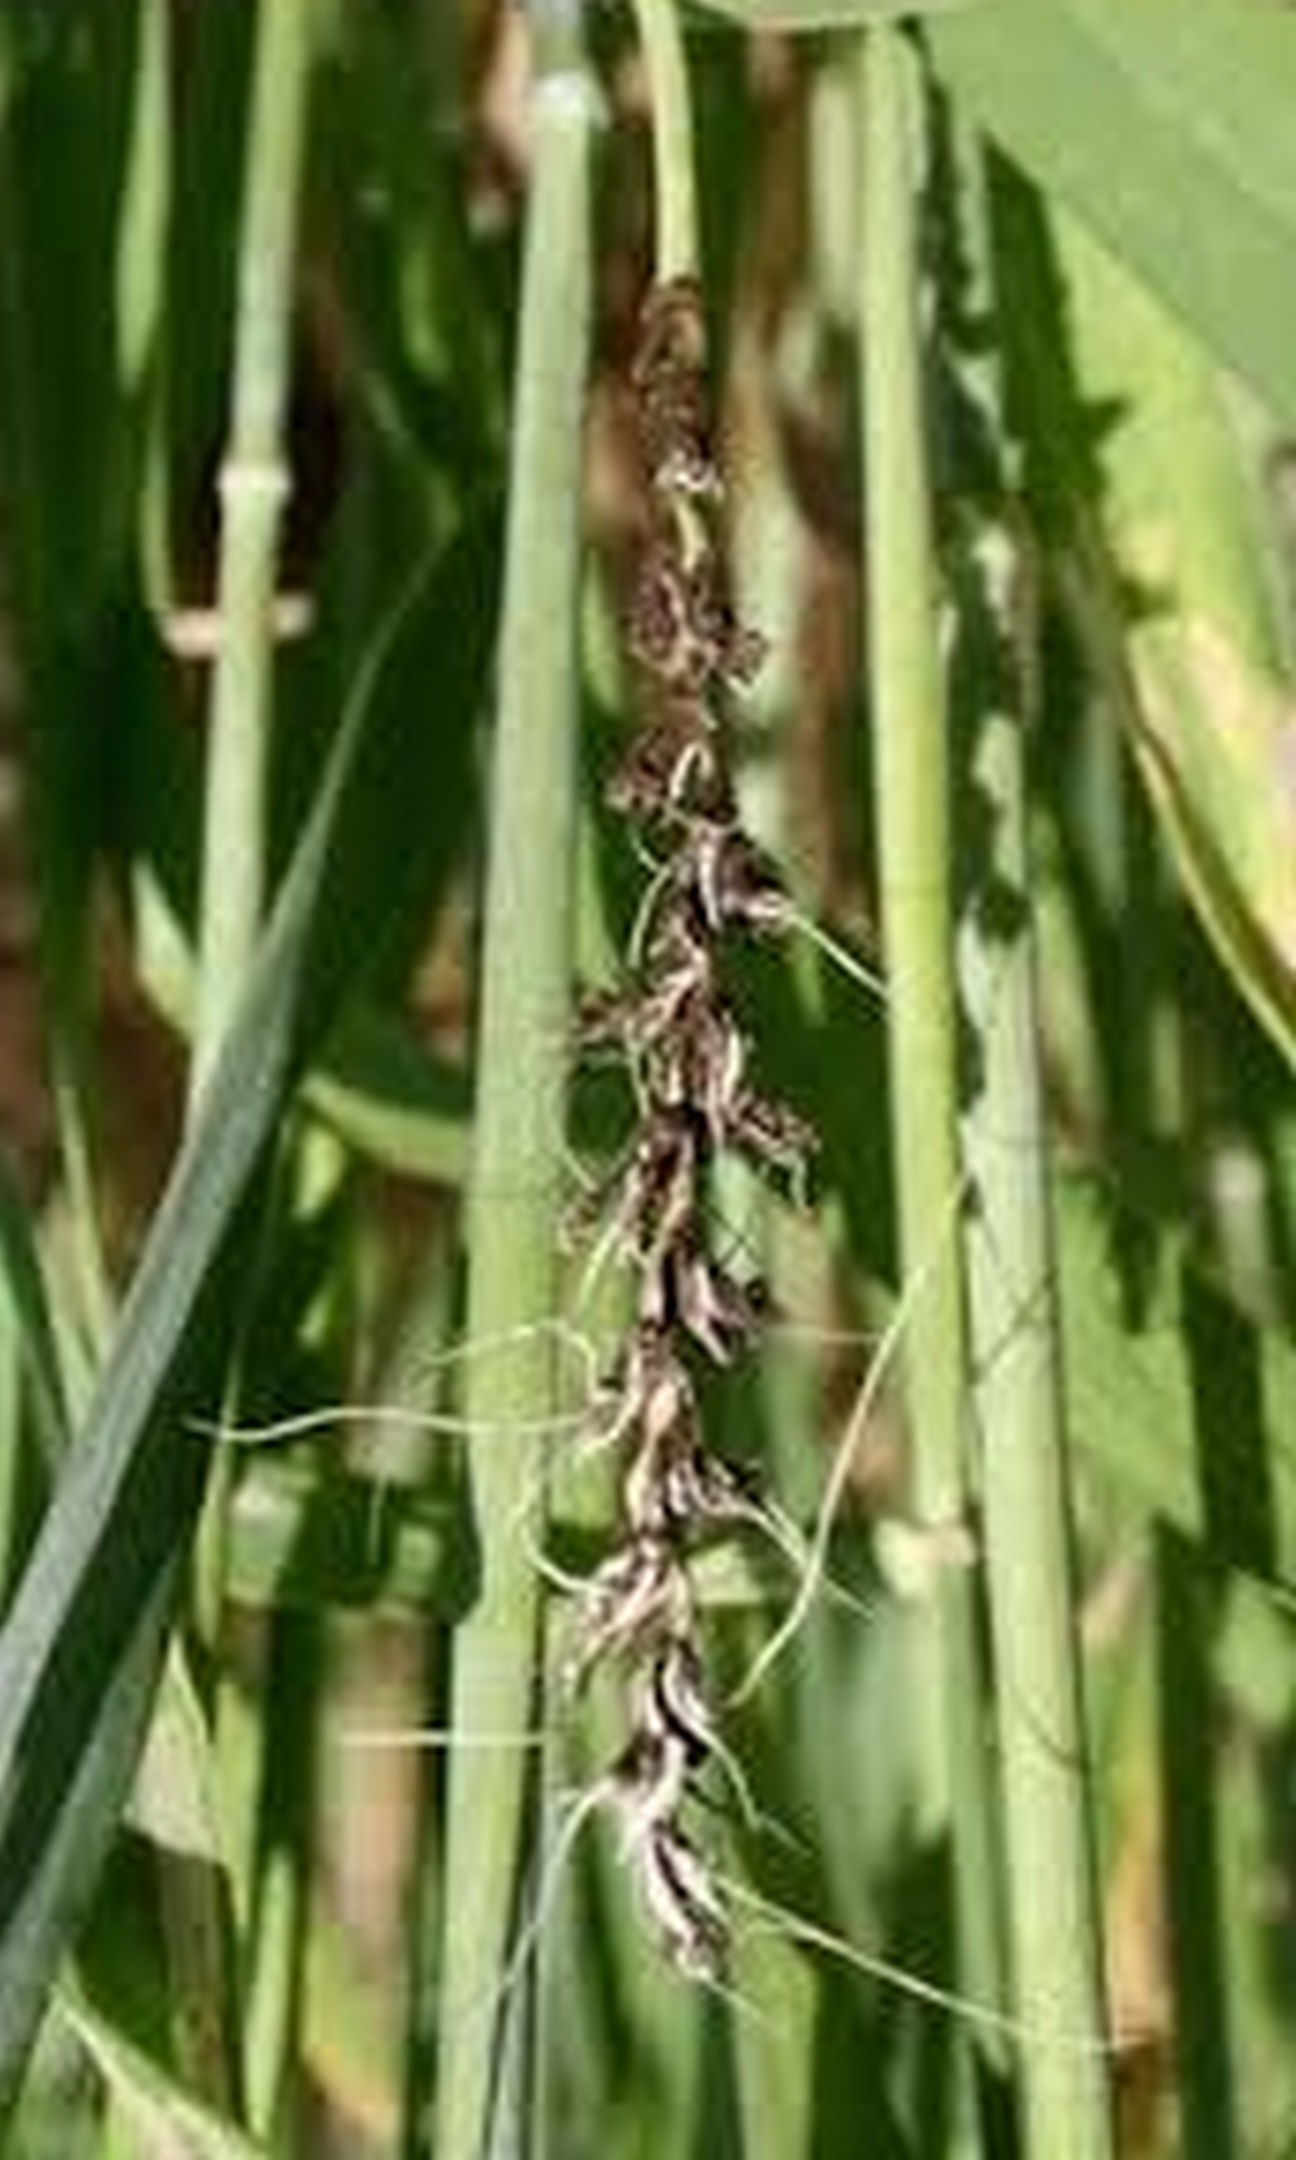Wheat Loose Smut: (560, 259, 829, 1933)
